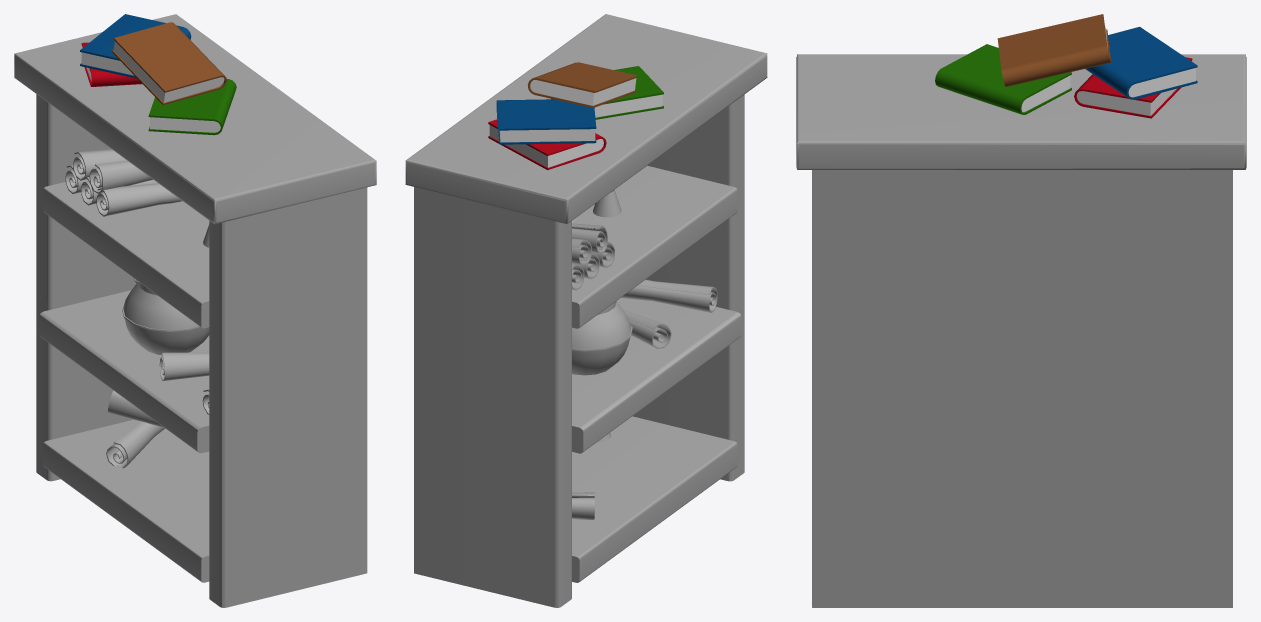
File: Bookcase_4.fbx
3 views of the same model, side by side, from view 1: azimuth 30°, elevation 25°; view 2: azimuth 150°, elevation 25°; view 3: azimuth 270°, elevation 25° (orthographic). The views are drawn at different scales.
Visible parts, largest first — view 1: Bookcase_4; view 2: Bookcase_4; view 3: Bookcase_4.
Boxes of the visible parts, x1,y1,x2,y2 form: Bookcase_4: (14,14,376,607); Bookcase_4: (405,14,767,607); Bookcase_4: (796,14,1246,607).
Bounding box in the file's own units: 0.0293 × 0.0808 × 0.0626.
